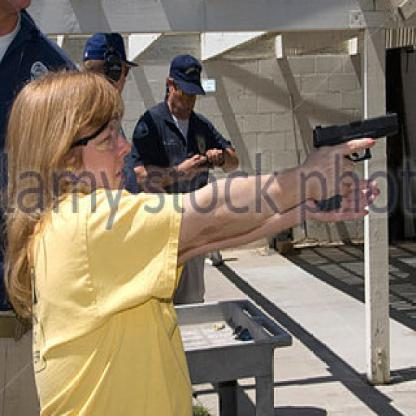gun: (306, 102, 406, 204)
